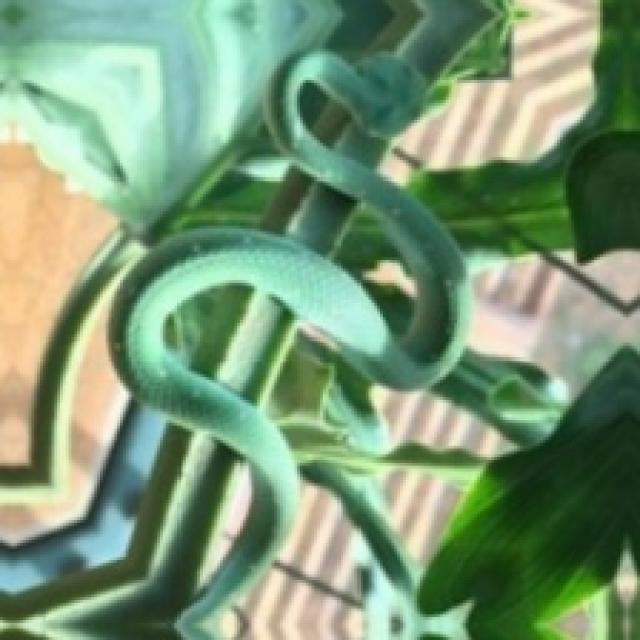north ph temple pitviper: (60, 0, 494, 637), (334, 203, 417, 331)
